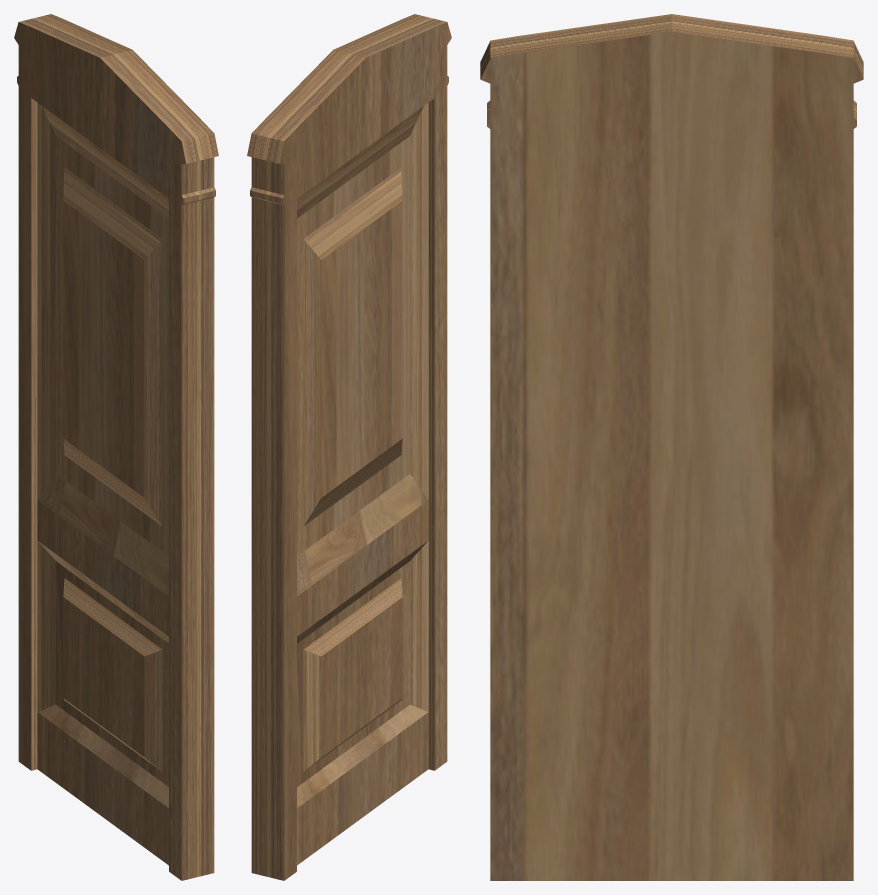
File: door.glb
3 views of the same model, side by side, from view 1: azimuth 30°, elevation 25°; view 2: azimuth 150°, elevation 25°; view 3: azimuth 270°, elevation 25° (orthographic). The views are drawn at different scales.
Parts seen in each view (by area): view 1: Cube.020; view 2: Cube.020; view 3: Cube.020.
Boxes of the visible parts, box(x1,y1,x2,y2) form: Cube.020: box(14, 14, 218, 880); Cube.020: box(247, 14, 451, 880); Cube.020: box(480, 14, 863, 880).
Bounding box in the file's own units: 6.61 × 147 × 60.26.
Materials: 1 (1 with a texture image).
